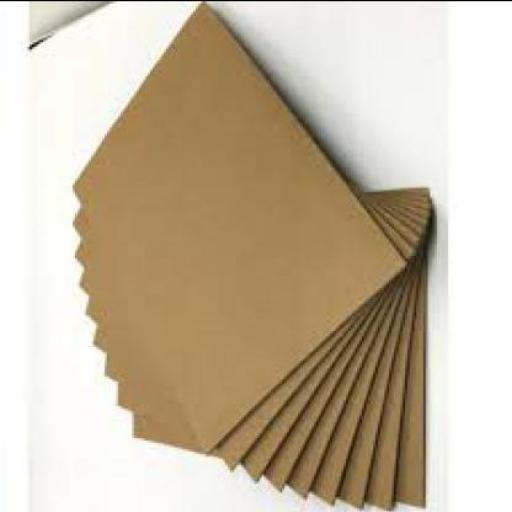cardboard: (73, 4, 432, 510), (70, 2, 405, 460)
